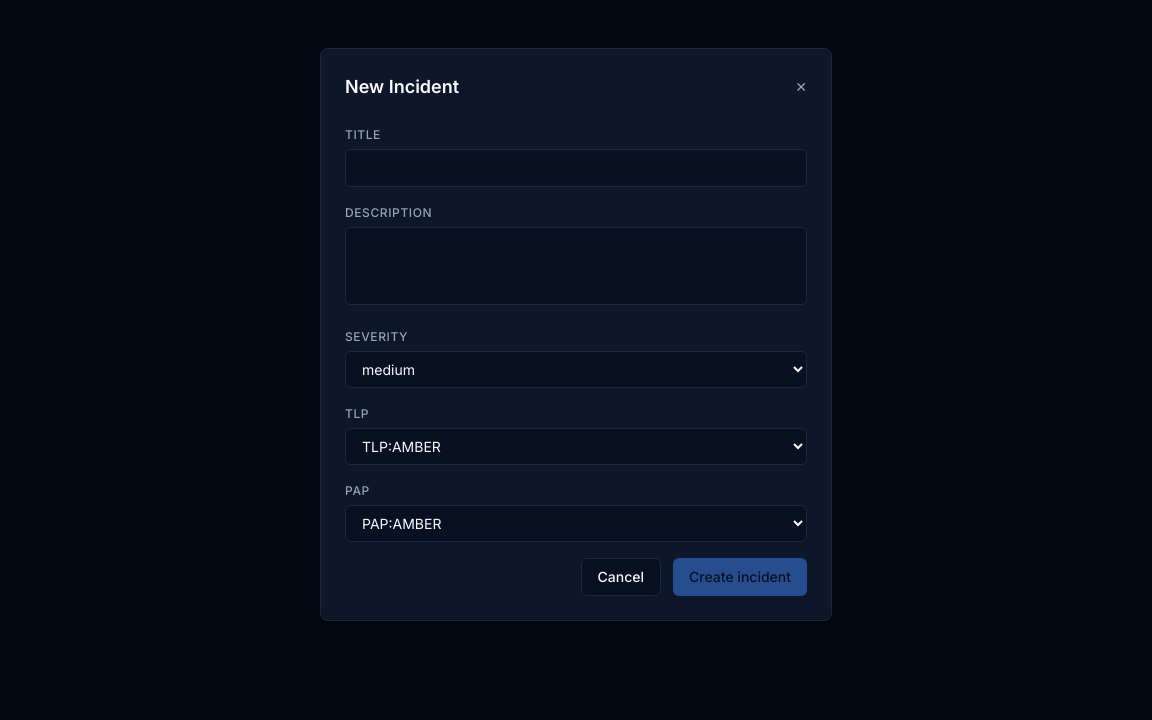
Test: CreateIncidentModal › submit button is enabled when title is filled and org is selected
Type "Test incident" into the field named "title" at (576, 168), box [345,149,807,187]
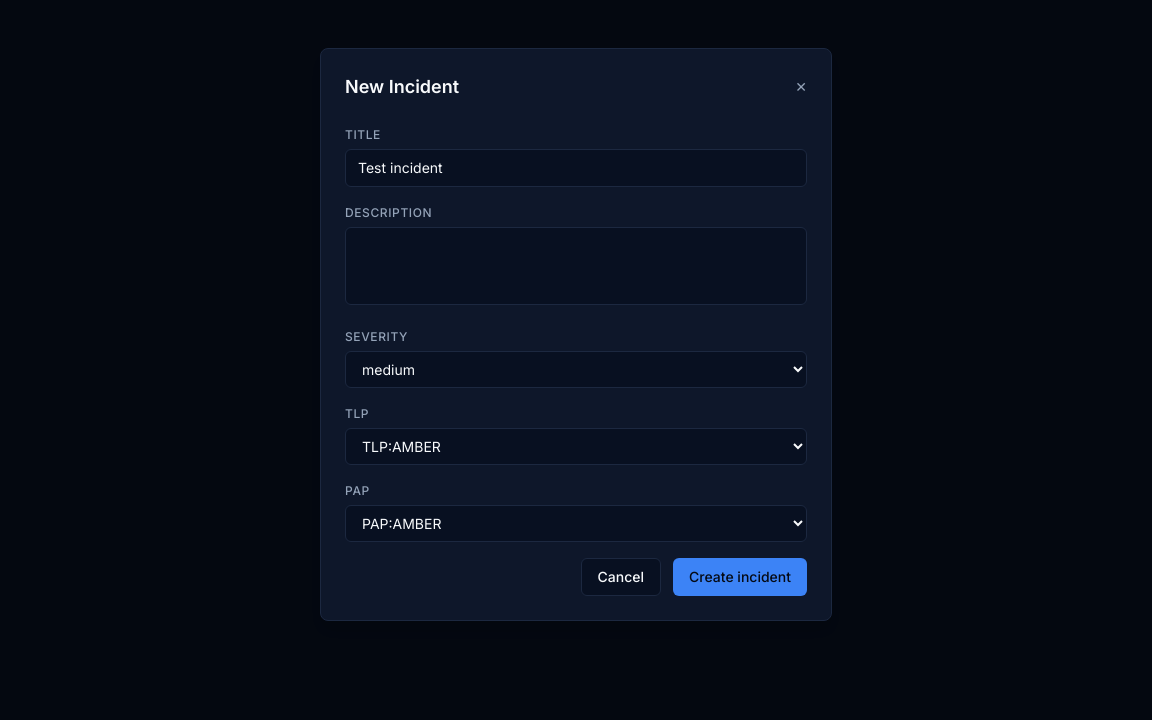
Expected: the button "Create incident" is enabled, [673,558,807,596]
